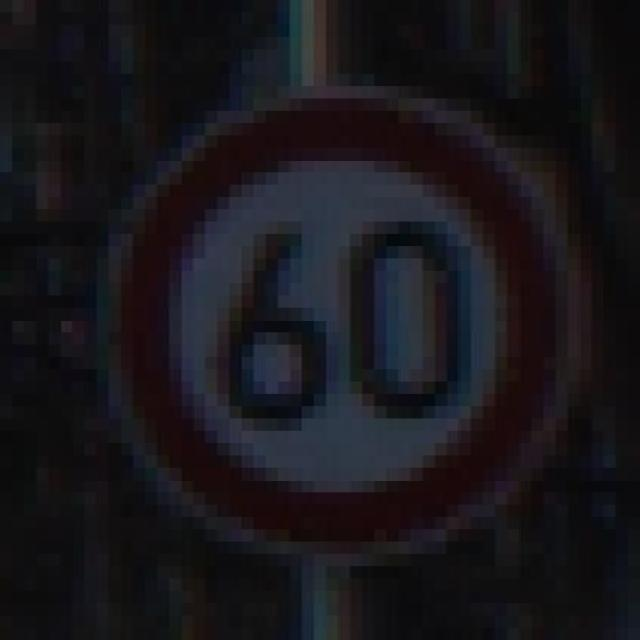forb_speed_over_60: (114, 93, 566, 550)
